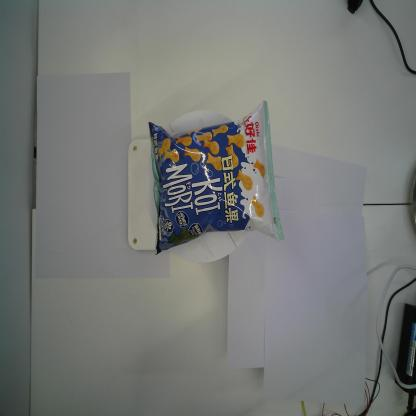Puffed Food: (146, 98, 284, 258)
